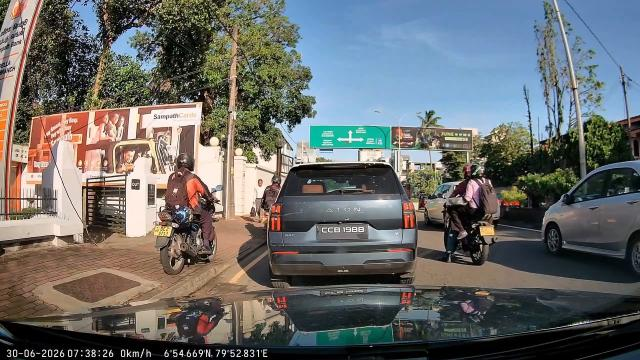illegal overtaking: (157, 152, 237, 283)
number plate: (151, 221, 177, 241)
